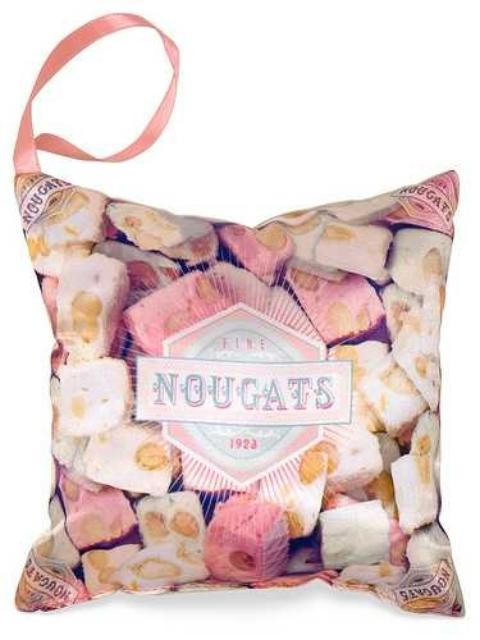pillow: (5, 153, 472, 632)
